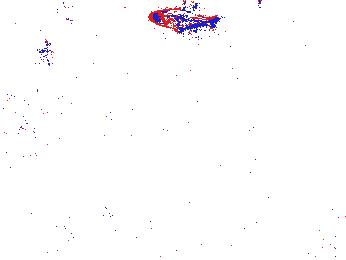X-ray fish: (1, 90, 40, 127), (49, 1, 102, 22), (36, 38, 55, 67)
red belly glassfish: (148, 6, 220, 32), (280, 38, 317, 60)
